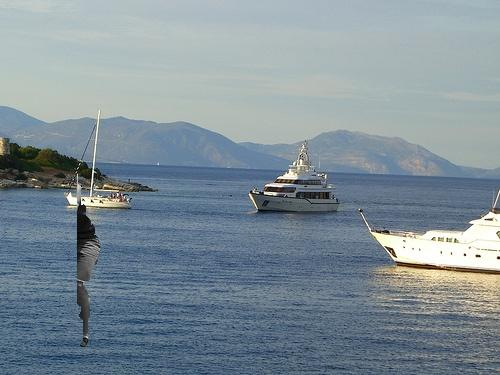tampered: (78, 175, 100, 347)
